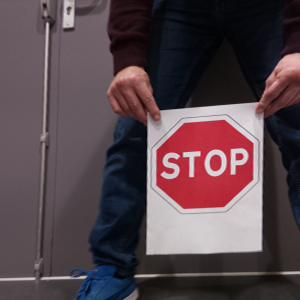stop: (150, 117, 260, 214)
